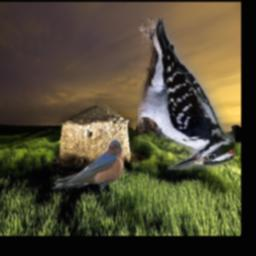Swallow: (49, 140, 124, 190)
Woodpecker: (138, 18, 235, 170)
